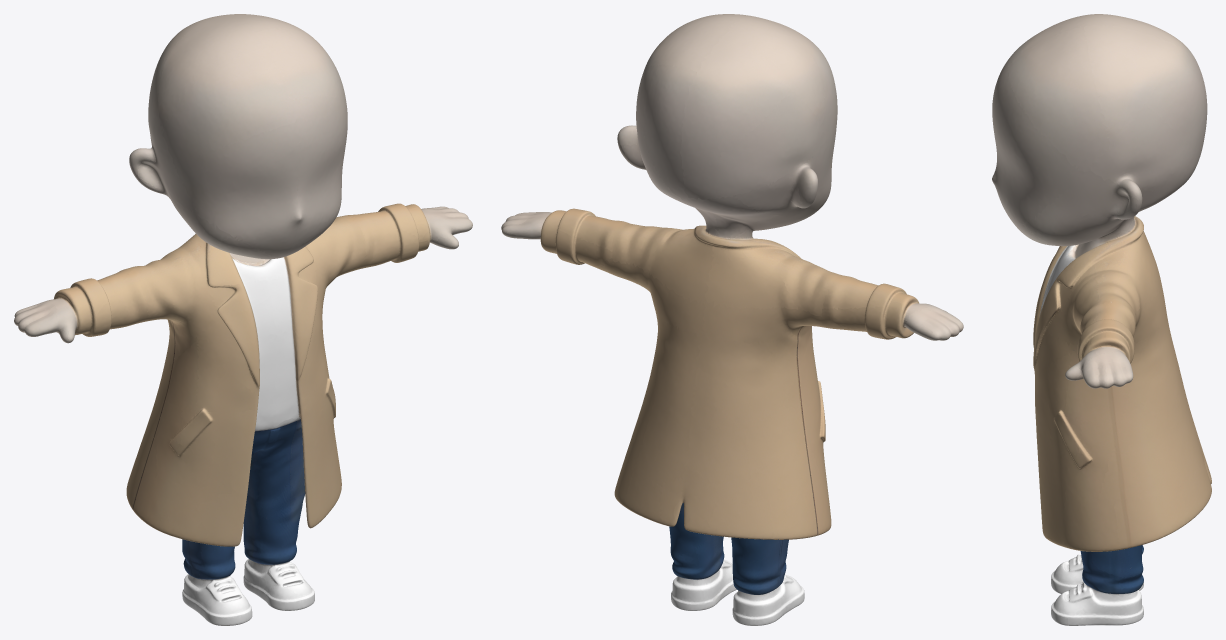
File: baked_noutfit_trench.glb
3 views of the same model, side by side, from view 1: azimuth 30°, elevation 25°; view 2: azimuth 150°, elevation 25°; view 3: azimuth 270°, elevation 25° (orthographic).
Size of the model in its own units: 1.55 by 1.9 by 0.6575.
Materials: 1 (1 with a texture image).
